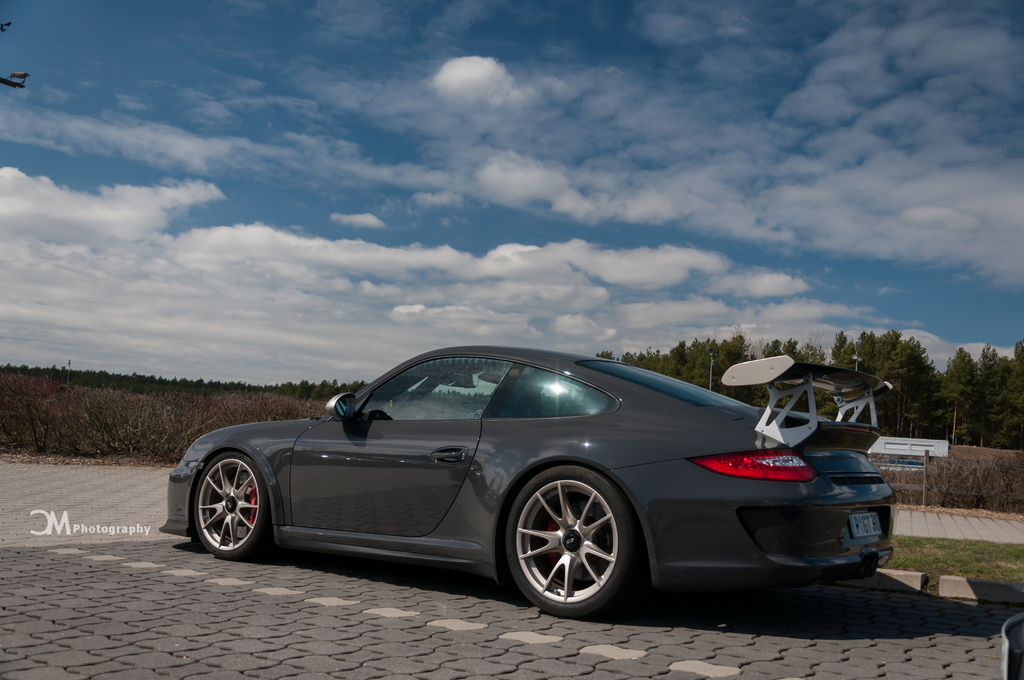Car: (157, 343, 898, 620)
